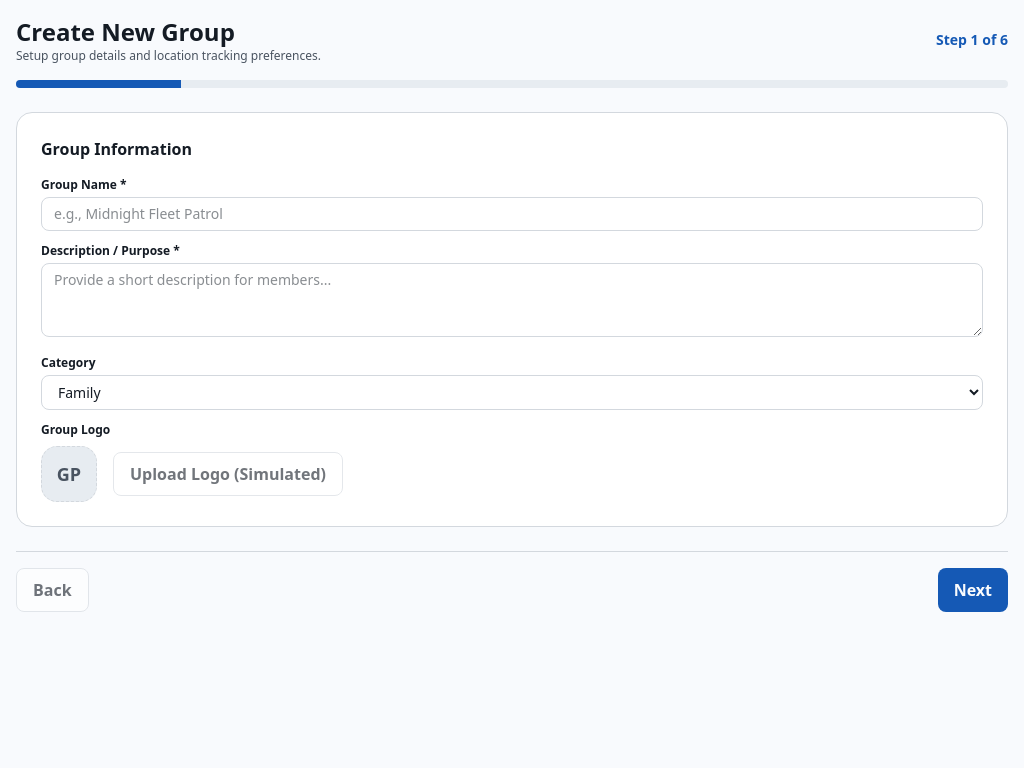
Test: CreateGroupPage Wizard Flow › validates required fields on Step 1 and blocks forward navigation
Click the button "Next": click(973, 590) [938, 568, 1008, 612]
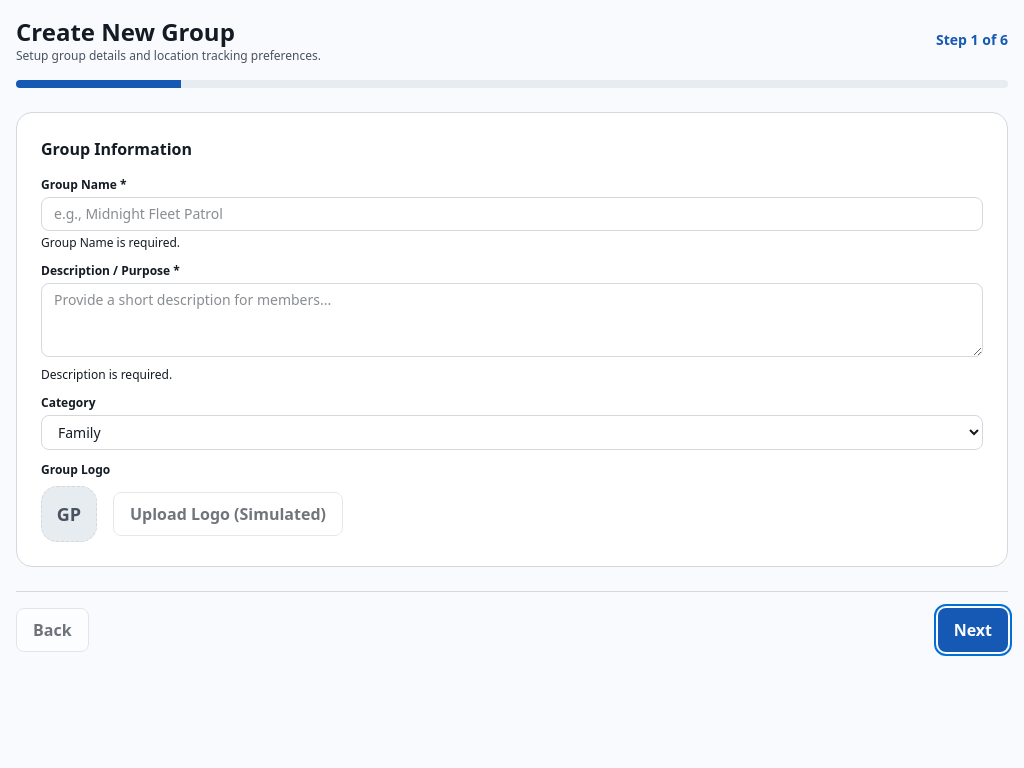
Expected: the heading "Group Information" is shown, [41, 138, 192, 160]
Expected: the text "Group Name is required." is shown, [41, 234, 180, 251]
Expected: the text "Description is required." is shown, [41, 366, 172, 383]
